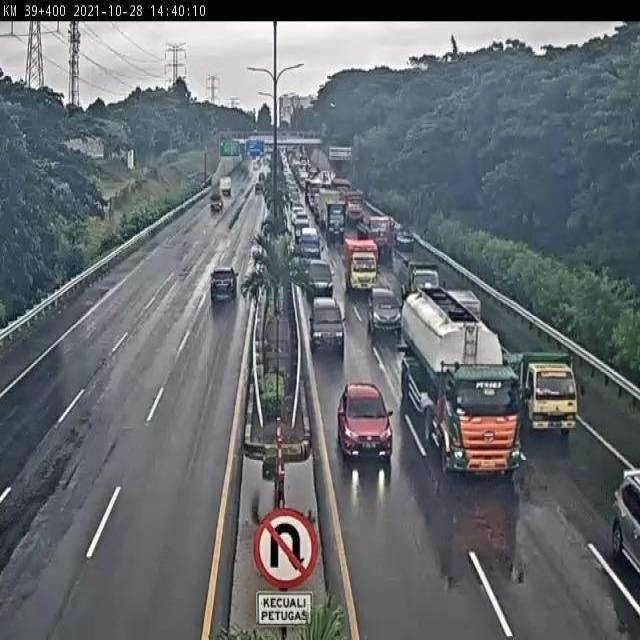Car: (337, 372, 396, 486), (611, 467, 640, 588), (309, 297, 344, 353), (367, 286, 402, 337), (303, 256, 334, 299), (210, 267, 237, 302)
Truck: (399, 287, 517, 480), (446, 484, 522, 585), (506, 349, 576, 438), (260, 429, 310, 481), (342, 235, 379, 292), (404, 259, 440, 300), (366, 215, 394, 260), (445, 289, 483, 322), (327, 141, 354, 179), (325, 201, 346, 243), (289, 255, 311, 290), (243, 438, 270, 465), (349, 208, 371, 241), (503, 352, 525, 385), (260, 212, 279, 247), (298, 226, 320, 256), (304, 176, 324, 206), (275, 133, 322, 145), (309, 148, 329, 176), (395, 228, 415, 255), (342, 228, 360, 258), (262, 450, 279, 481), (346, 189, 364, 215), (292, 163, 308, 192), (622, 466, 640, 491), (418, 390, 434, 417), (284, 177, 298, 207), (251, 489, 263, 524), (332, 178, 351, 200), (284, 228, 296, 262), (87, 284, 112, 300), (279, 148, 292, 178), (282, 192, 295, 218), (286, 150, 300, 174), (291, 204, 306, 226), (307, 168, 321, 189), (228, 206, 240, 229), (337, 188, 349, 210), (336, 297, 346, 323), (210, 191, 222, 212), (382, 216, 394, 237), (66, 103, 84, 117), (220, 177, 232, 197), (409, 229, 424, 245), (161, 148, 179, 161), (320, 170, 334, 186), (34, 158, 56, 168), (254, 257, 266, 275), (230, 139, 243, 155), (252, 243, 262, 263), (299, 159, 310, 177), (254, 335, 261, 363), (391, 219, 401, 238), (210, 124, 221, 141), (178, 267, 191, 281), (266, 194, 274, 216), (400, 279, 408, 301), (186, 171, 202, 182), (263, 142, 275, 156), (164, 235, 176, 249), (243, 146, 254, 161), (256, 172, 266, 188), (127, 150, 135, 170), (254, 180, 264, 195), (88, 152, 105, 160), (321, 122, 328, 141), (280, 119, 290, 132), (262, 154, 271, 168), (219, 139, 228, 153), (205, 175, 213, 188), (244, 186, 252, 199), (278, 134, 288, 144), (218, 180, 225, 194), (252, 159, 260, 171), (251, 150, 260, 160), (71, 273, 82, 281), (252, 129, 260, 137)
